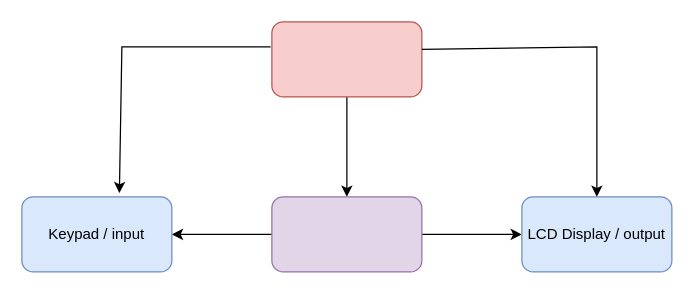
Some shapes in this 694 by 294 pixel diagram are drawn without their labels. Each missing label, with the centre of its shape:
"Atmega328 microcontroller" goes at point 346,234.
"Power supply" goes at point 346,59.
